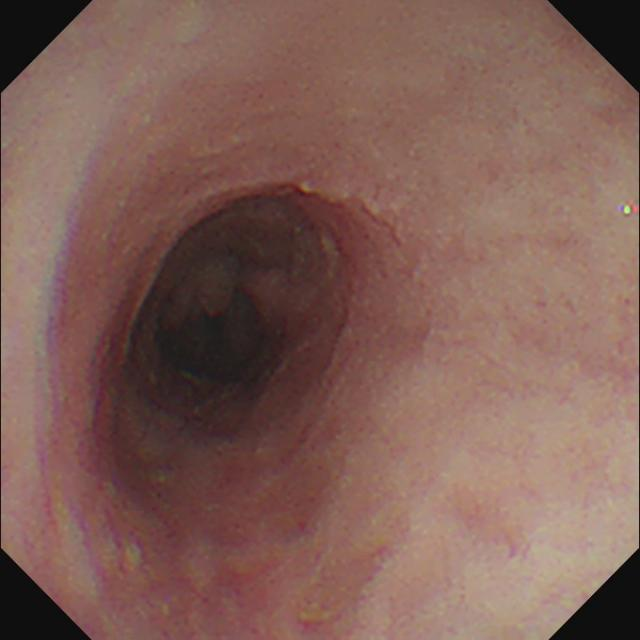A: (257, 180, 393, 293)
E: (164, 308, 264, 389)
